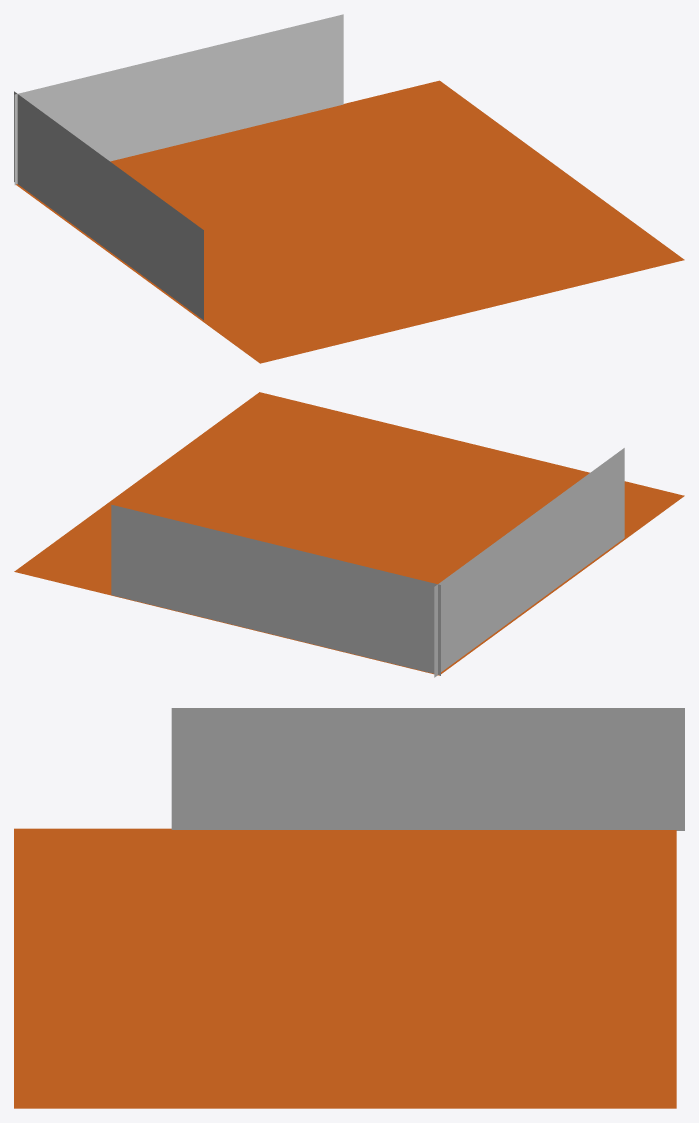
Rendered from scenario.fbx.
The picture shows the model from 3 angles, top to bottom: view 1: azimuth 30°, elevation 25°; view 2: azimuth 150°, elevation 25°; view 3: azimuth 270°, elevation 25°; orthographic projection. The views are drawn at different scales.
Parts seen in each view (by area): view 1: floor, wall.R, wall.L; view 2: floor, wall.R, wall.L; view 3: floor, wall.L.
Part boxes in pixels (x1=…): floor: x1=16, y1=80, x2=684, y2=363; wall.R: x1=14, y1=14, x2=343, y2=185; wall.L: x1=14, y1=91, x2=203, y2=320; floor: x1=14, y1=392, x2=684, y2=675; wall.R: x1=111, y1=504, x2=440, y2=675; wall.L: x1=434, y1=448, x2=624, y2=677; floor: x1=14, y1=828, x2=676, y2=1108; wall.L: x1=171, y1=708, x2=684, y2=830.
Bounding box in the file's own units: 9.84 × 2.01 × 9.94.
